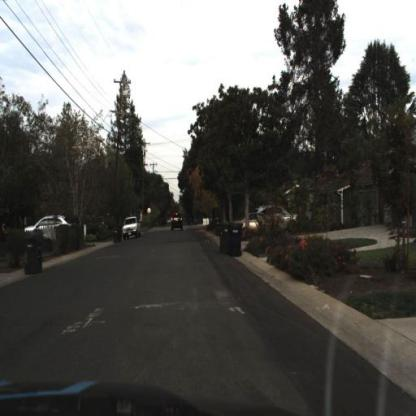car: (23, 214, 77, 242), (27, 209, 71, 240), (254, 204, 300, 227), (236, 208, 267, 233), (117, 214, 144, 241), (122, 216, 145, 242), (170, 211, 186, 236)
